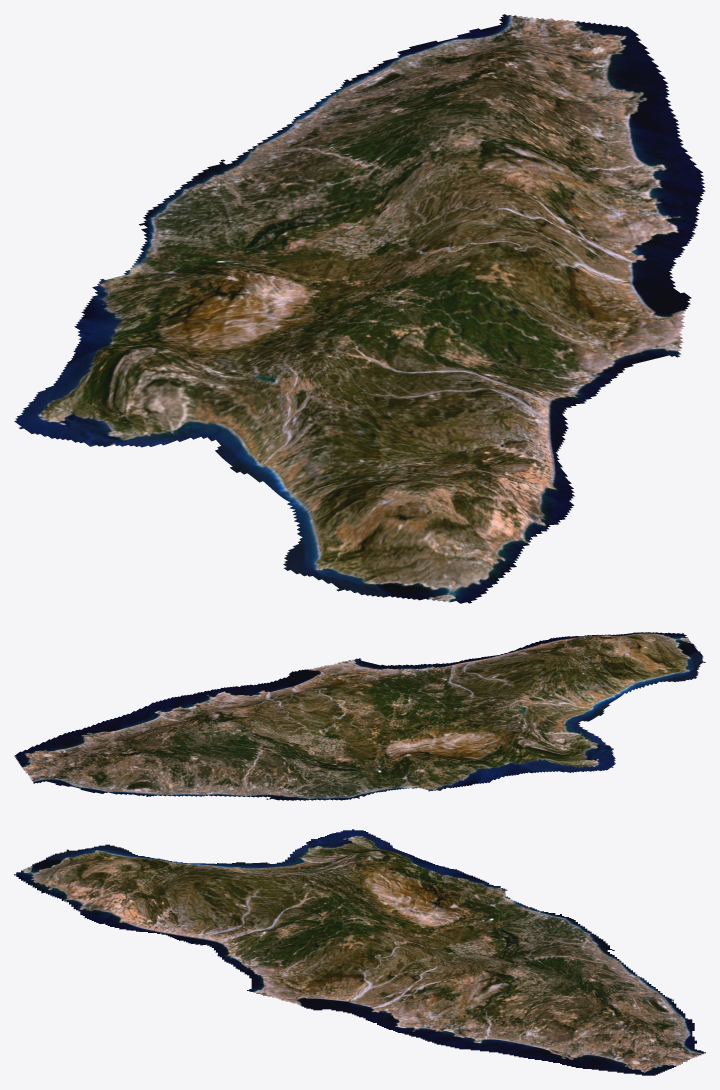
Rendered from tja.fbx.
3 renders of one model, top to bottom at view 1: azimuth 30°, elevation 25°; view 2: azimuth 150°, elevation 25°; view 3: azimuth 270°, elevation 25°, orthographic. The views are drawn at different scales.
Parts seen in each view (by area): view 1: pPlane1; view 2: pPlane1; view 3: pPlane1.
Part boxes in pixels (box(x1,y1,x2,y2)): pPlane1: box(14, 14, 705, 603); pPlane1: box(14, 632, 705, 800); pPlane1: box(14, 829, 705, 1075).
Bounding box in the file's own units: 949 × 42.57 × 1127.
